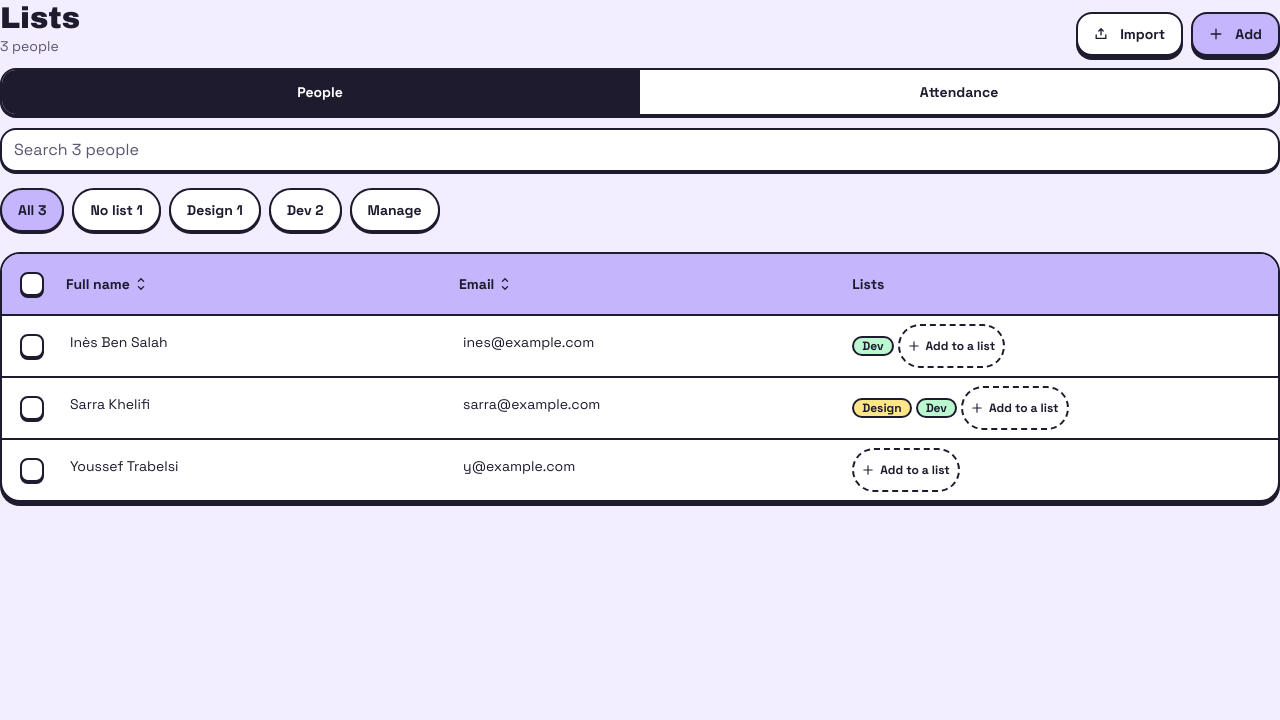
RosterView › opens the import dialog from the header and the empty state
Click the button "Import" at (1130, 34), box [1076,12,1183,56]
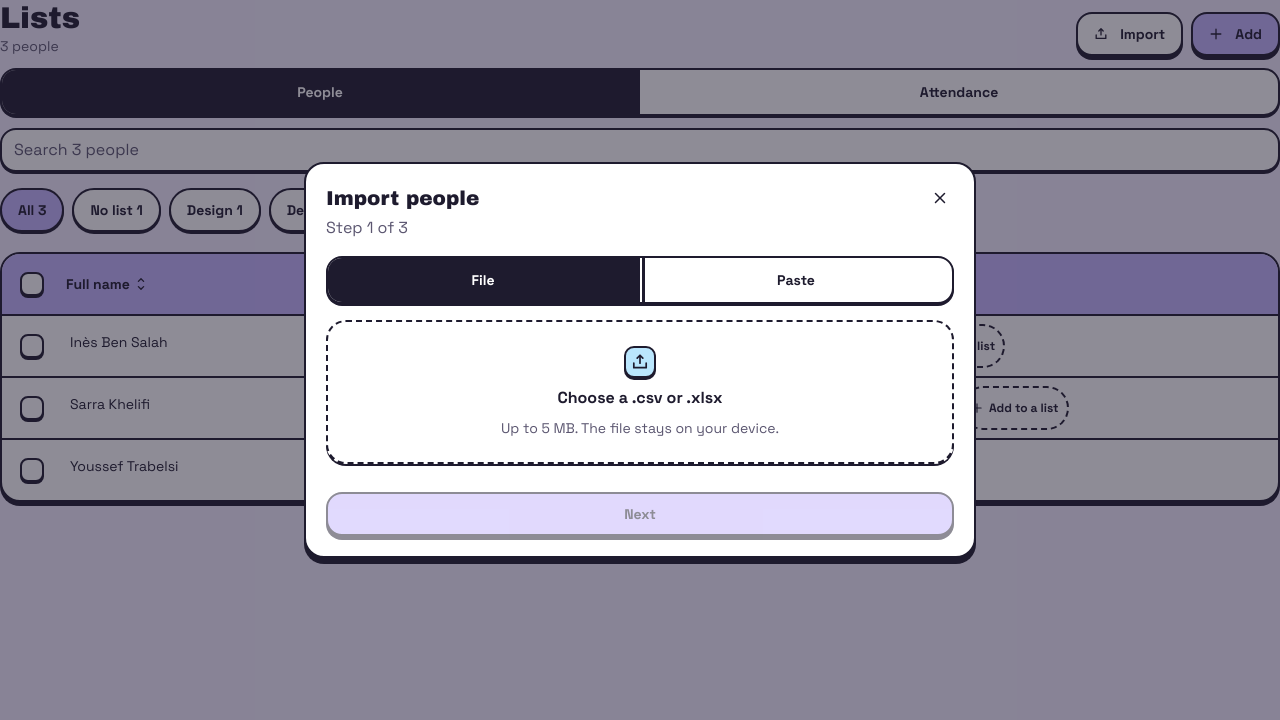
Check: the dialog "Import people" is shown, box [304,162,976,558]
